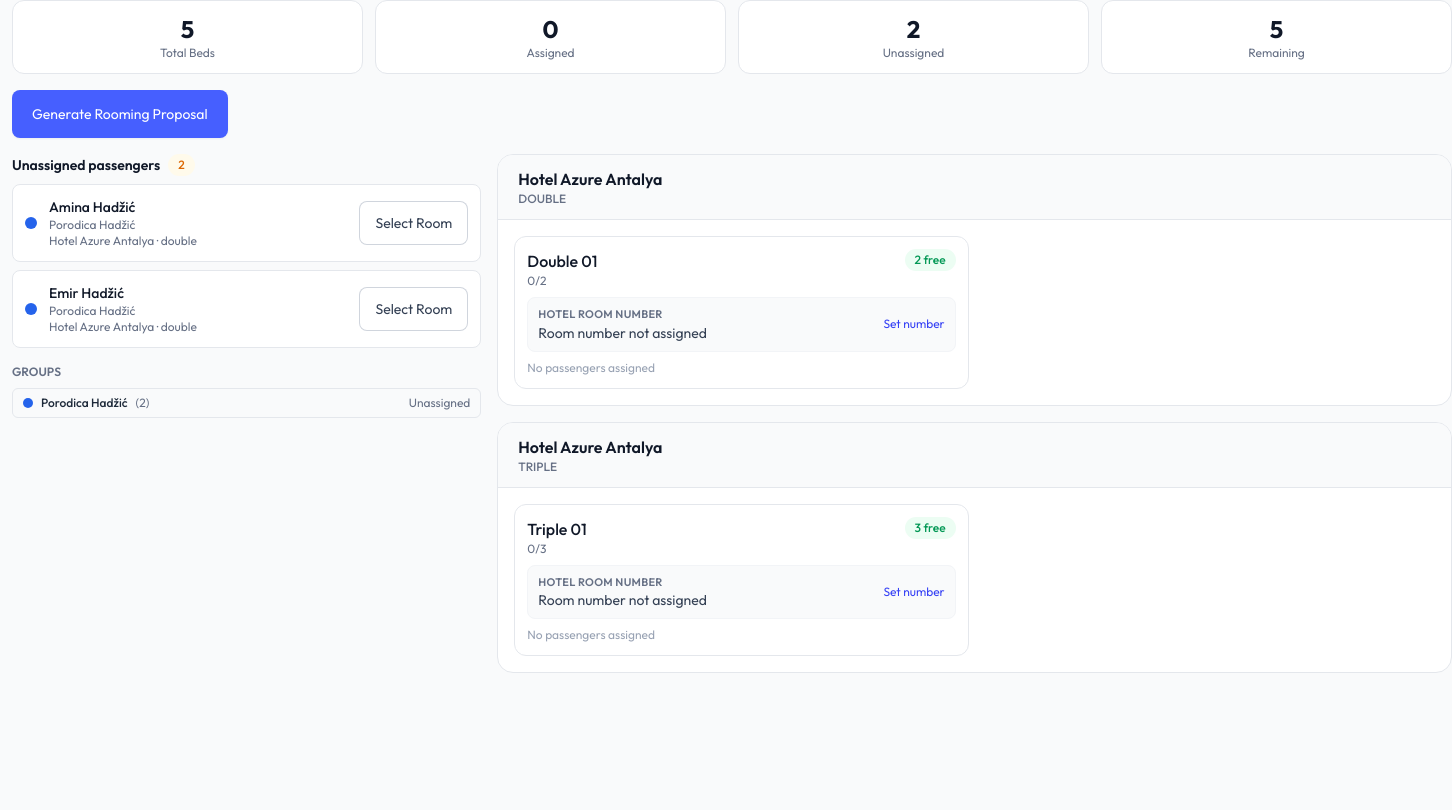
Test: RoomingWorkspace room slots › renders Generate Rooming Proposal button and review panel
Step 1. Click the button "Generate Rooming Proposal" → (120,114), box [12,90,228,138]
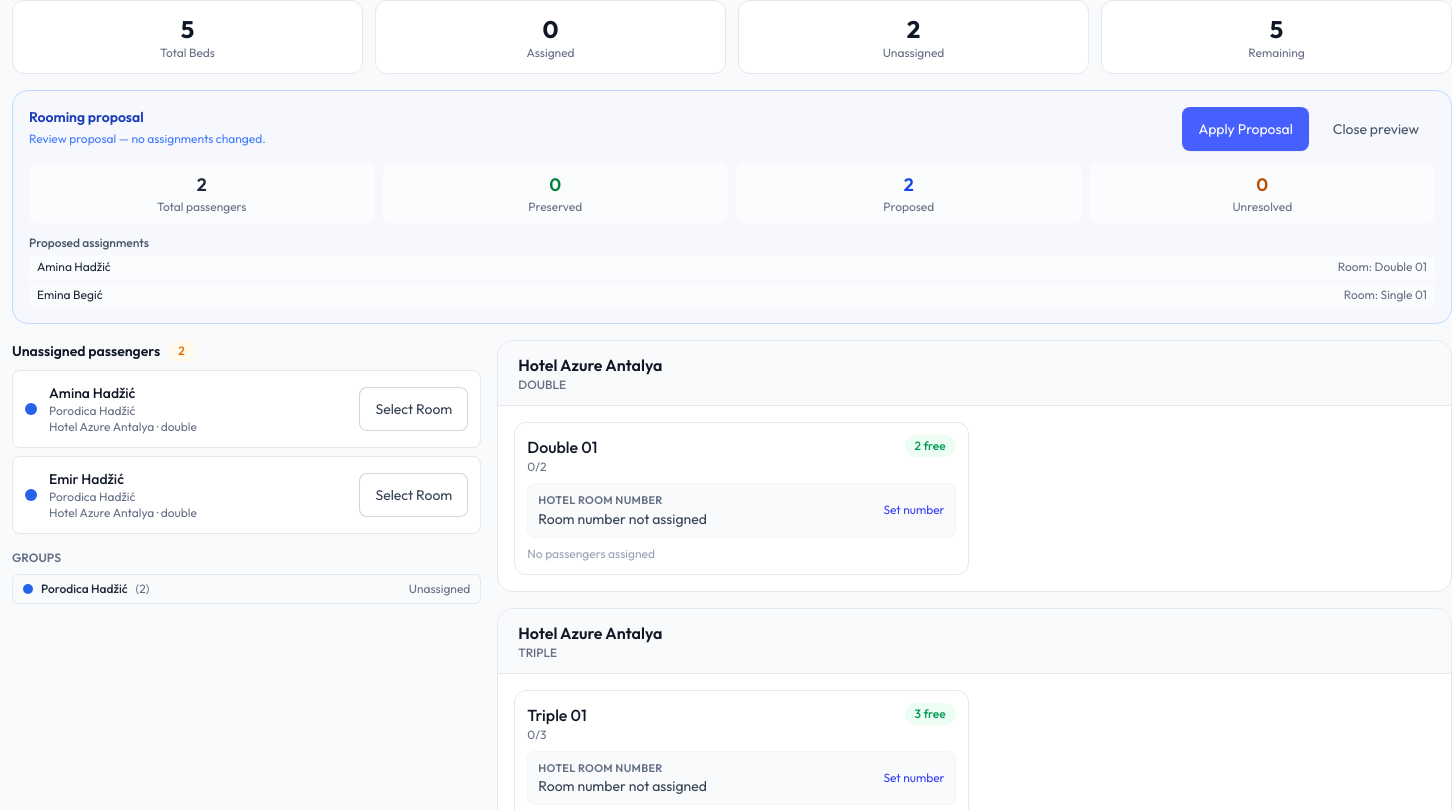
Expected: the text "Review proposal — no assignments changed." is shown, [29,131,266,147]
Expected: the text "Total passengers" is shown, [157,199,246,214]
Expected: the text "Preserved" is shown, [528,199,582,214]
